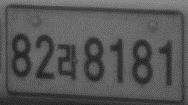1: (158, 39, 175, 89), (108, 39, 125, 85)
2: (34, 33, 55, 79)
8: (10, 32, 33, 78), (83, 36, 105, 83), (131, 39, 153, 85)
라: (54, 42, 79, 82)
